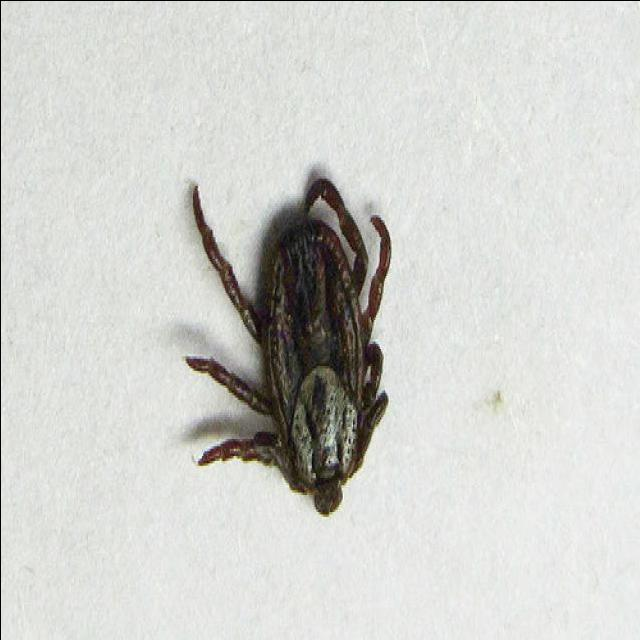Dermacentor Reticulatus-F: (184, 170, 390, 513)
